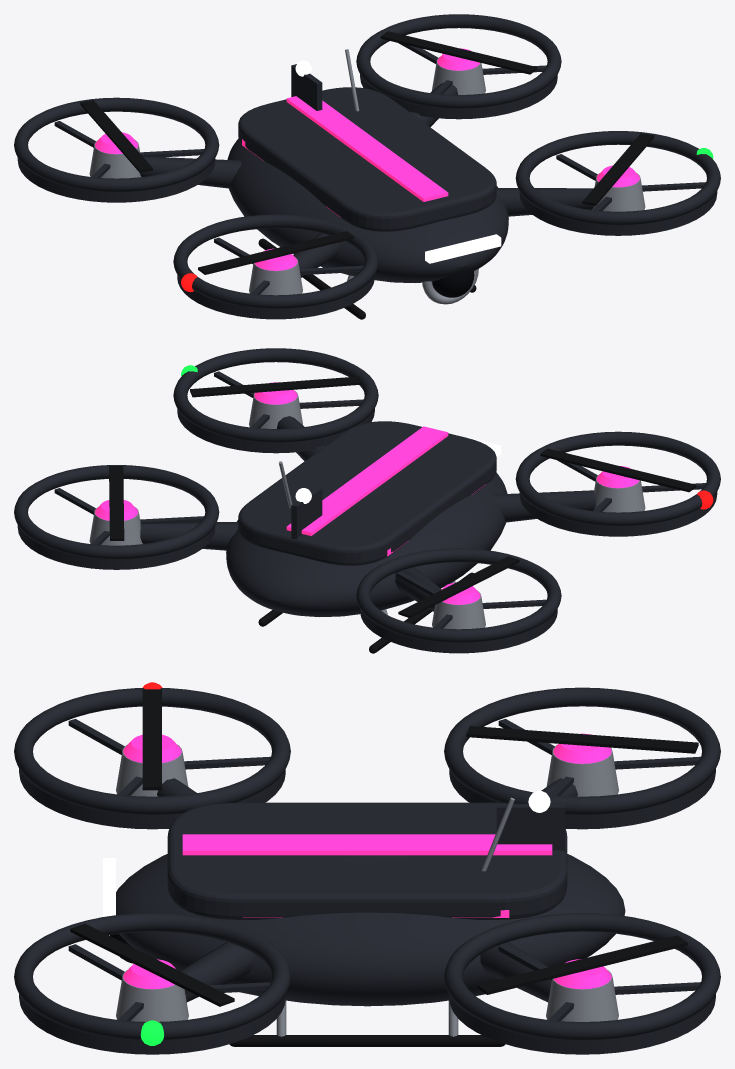
The model's file is drone.glb.
The picture shows the model from 3 angles, top to bottom: view 1: azimuth 30°, elevation 25°; view 2: azimuth 150°, elevation 25°; view 3: azimuth 270°, elevation 25°; orthographic projection. The views are drawn at different scales.
Parts seen in each view (by area): view 1: Deck, Hull, Duct3, Duct2, Duct1, Duct0, Stripe, DuctWall1, DuctWall2, DuctWall0, DuctWall3, Prop3 (+17 smaller); view 2: Deck, Hull, Duct1, Duct2, Duct3, Duct0, Stripe, DuctWall2, DuctWall3, DuctWall0, DuctWall1, Arm0 (+13 smaller); view 3: Deck, Hull, Duct3, Duct0, Duct1, Duct2, Stripe, DuctWall3, DuctWall1, SkidR, Prop2, DuctWall0 (+21 smaller).
Part boxes in pixels (x1,y1,x2,y2): Deck: (238, 87, 496, 231); Hull: (227, 137, 508, 282); Duct3: (356, 14, 561, 108); Duct2: (14, 97, 219, 192); Duct1: (515, 131, 720, 225); Duct0: (173, 214, 378, 308); Stripe: (286, 96, 448, 201); DuctWall1: (519, 191, 717, 235); DuctWall2: (17, 158, 215, 202); DuctWall0: (177, 275, 374, 319); DuctWall3: (360, 74, 557, 119); Prop3: (380, 31, 537, 74); Deck: (238, 421, 496, 565); Hull: (226, 471, 507, 616); Duct1: (173, 348, 378, 442); Duct2: (356, 548, 561, 642); Duct3: (14, 465, 219, 559); Duct0: (515, 431, 720, 526); Stripe: (286, 426, 448, 535); DuctWall2: (360, 609, 557, 653); DuctWall3: (17, 525, 215, 569); DuctWall0: (519, 492, 717, 536); DuctWall1: (177, 408, 374, 453); Arm0: (493, 490, 595, 522); Deck: (167, 802, 567, 919); Hull: (116, 854, 625, 1006); Duct3: (444, 913, 720, 1040); Duct0: (14, 688, 290, 814); Duct1: (14, 913, 290, 1040); Duct2: (444, 687, 720, 814); Stripe: (182, 834, 552, 855); DuctWall3: (449, 994, 715, 1054); DuctWall1: (19, 994, 285, 1054); SkidR: (229, 1035, 505, 1046); Prop2: (466, 726, 698, 753); DuctWall0: (19, 769, 285, 829).
Bounding box in the file's own units: 1.92 × 0.5987 × 1.64.
